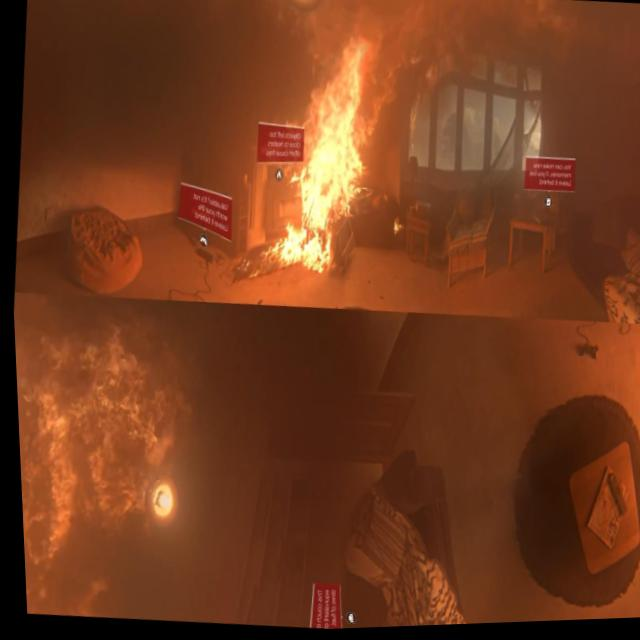fire: (11, 299, 170, 620), (255, 29, 394, 281)
